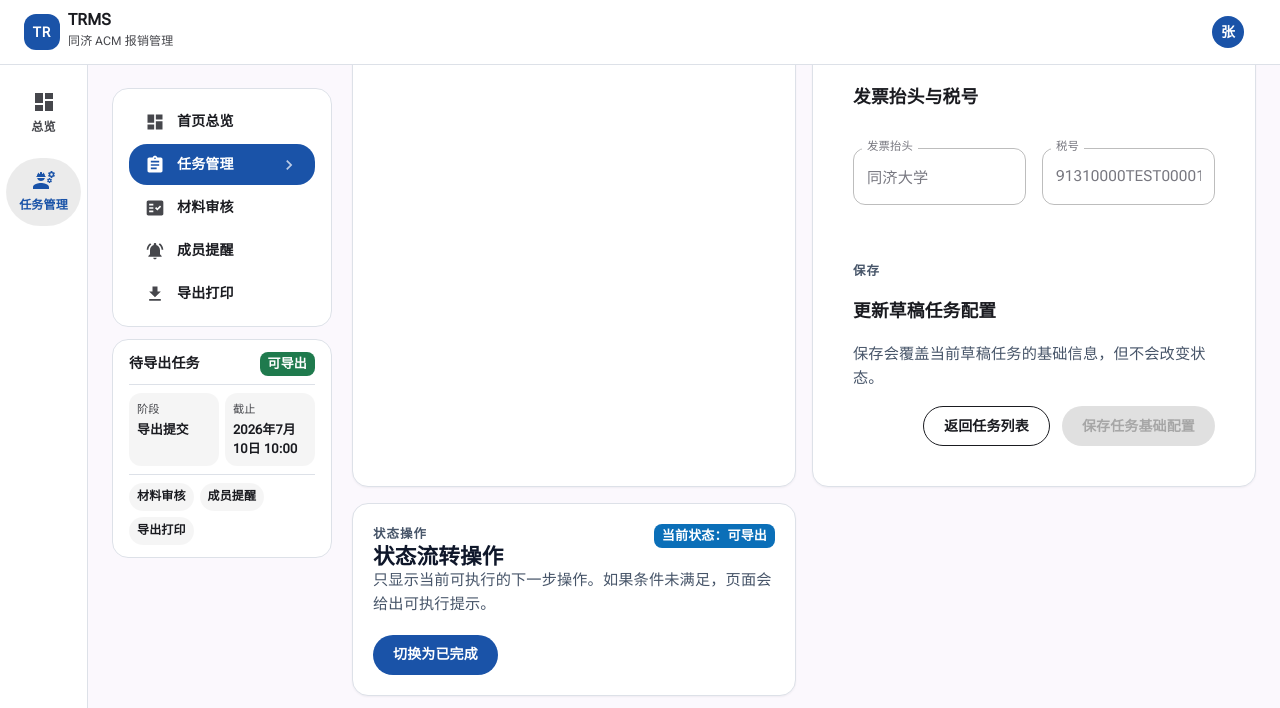
Scenario: admin task detail page › shows a page-level error when the backend rejects a status transition
(page scrolled)
Click the button "切换为已完成": (435, 655) [373,635,498,675]
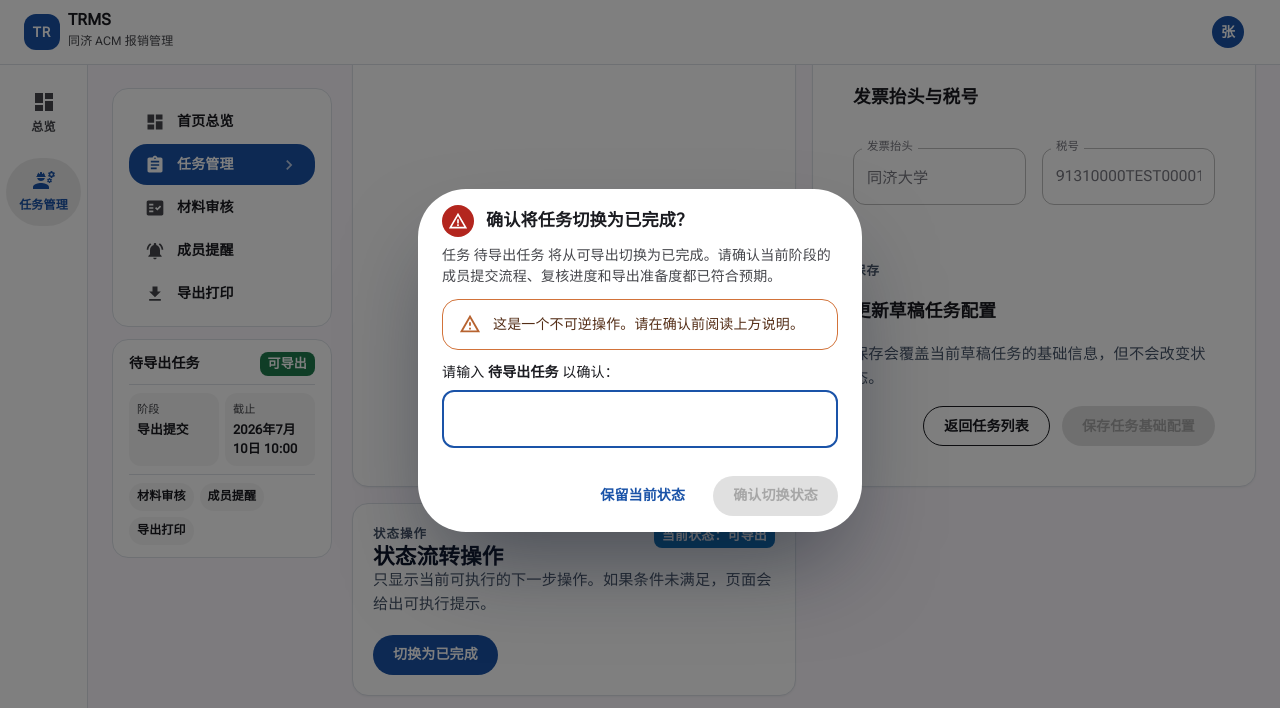
In the field named "确认动作输入框": (640, 419) [442,390,838,448], type "待导出任务"
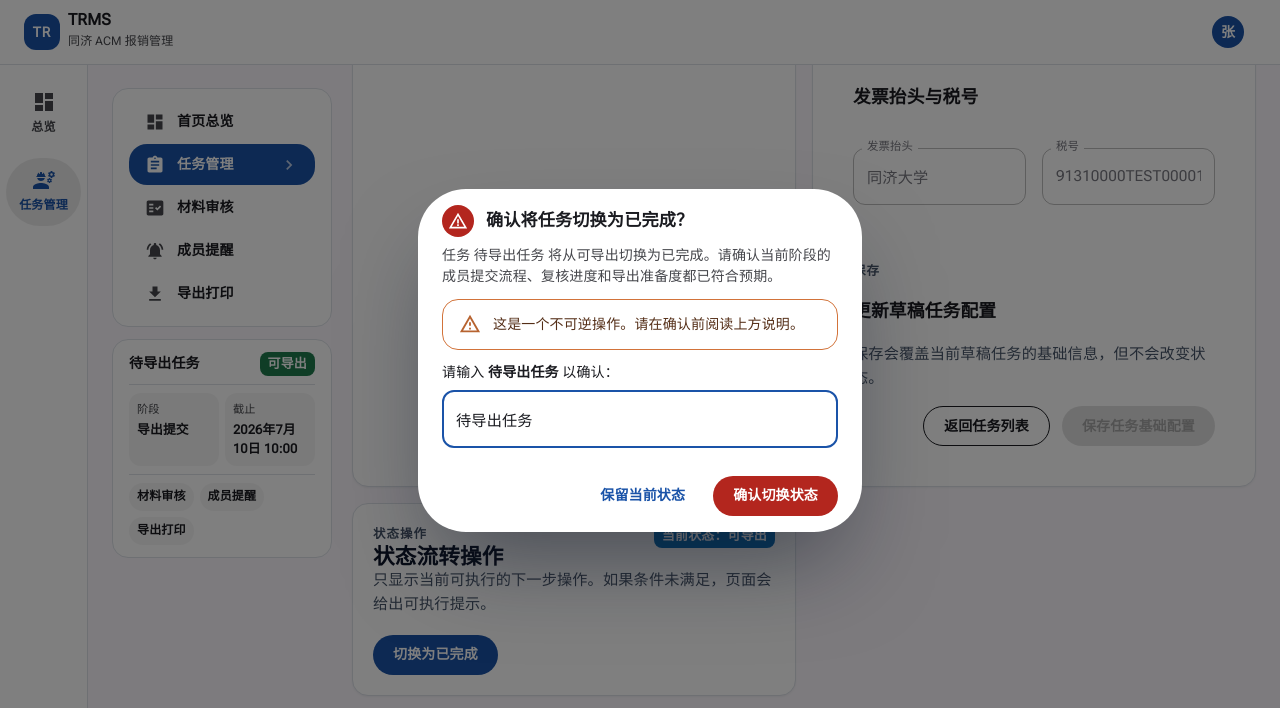
Click the button "确认切换状态": (776, 496) [713,476,838,516]
(page scrolled)
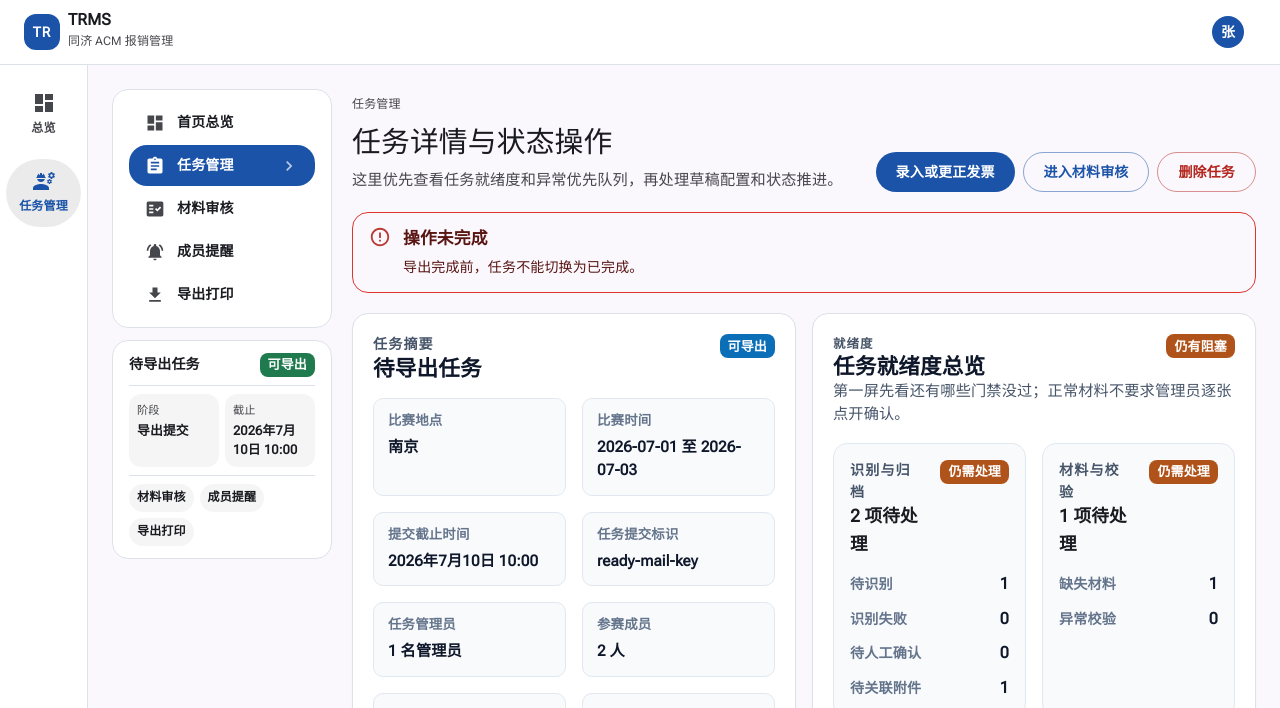
Check: the heading "操作未完成" is shown, box [403,228,488,248]
Check: the text "导出完成前，任务不能切换为已完成。" is shown, box [403,257,643,278]
